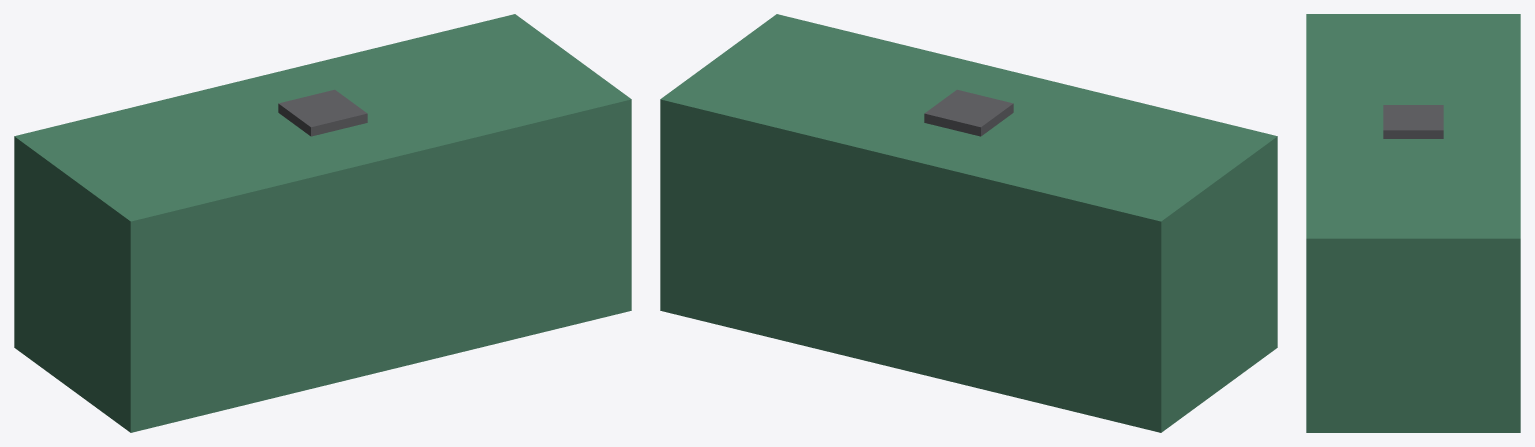
Rendered from jga25-370-12v.glb.
3 views of the same model, side by side, from view 1: azimuth 30°, elevation 25°; view 2: azimuth 150°, elevation 25°; view 3: azimuth 270°, elevation 25° (orthographic). The views are drawn at different scales.
Visible parts, largest first — view 1: jga25-370-12v-pcb, jga25-370-12v-ic; view 2: jga25-370-12v-pcb, jga25-370-12v-ic; view 3: jga25-370-12v-pcb, jga25-370-12v-ic.
Part boxes in pixels (box(x1,y1,x2,y2)): jga25-370-12v-pcb: box(14, 14, 631, 432); jga25-370-12v-ic: box(278, 89, 367, 136); jga25-370-12v-pcb: box(660, 14, 1277, 432); jga25-370-12v-ic: box(924, 89, 1013, 136); jga25-370-12v-pcb: box(1306, 14, 1520, 432); jga25-370-12v-ic: box(1383, 105, 1443, 138).
Size of the model in its own units: 0.062 by 0.0261 by 0.025.
